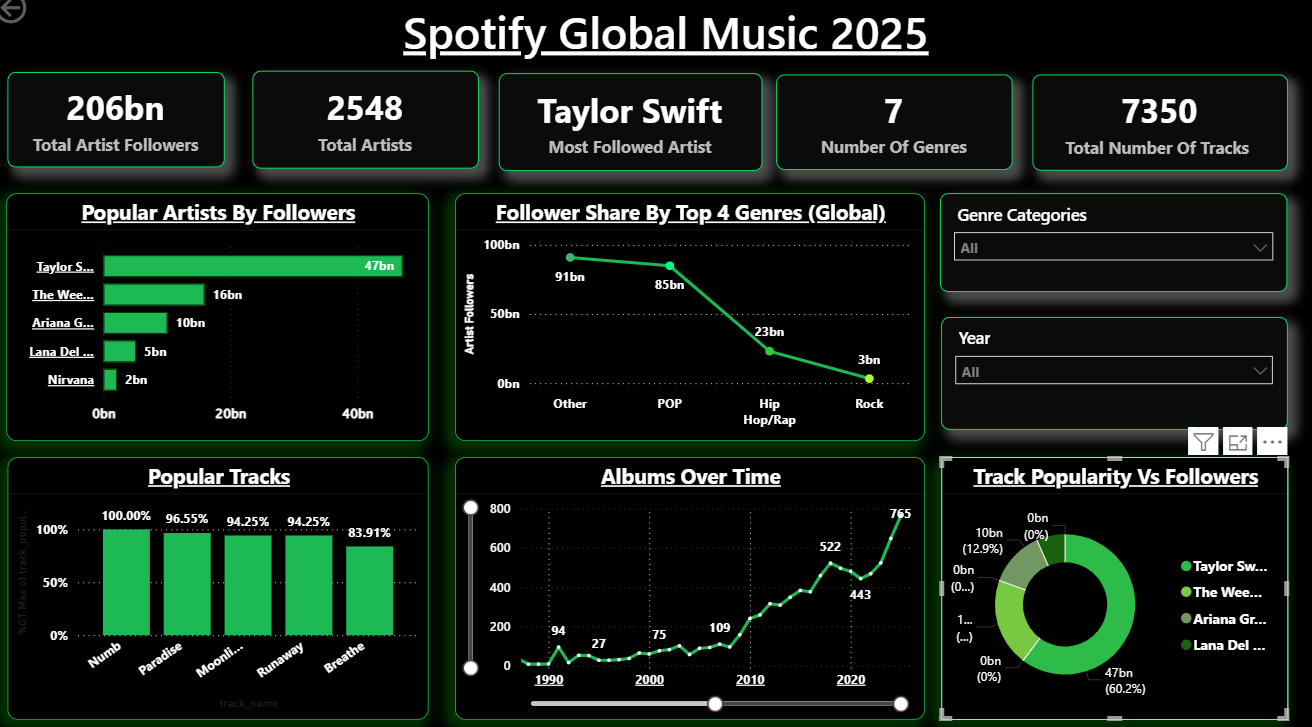

What the dashboard file says about the page in this screenshot:
{"tool":"powerbi","page":{"name":"Page 1","canvas":[1280,720],"ordinal":0},"visuals":[{"type":"textbox","box":[370.9,8.9,564,72.4],"z":0},{"type":"clusteredBarChart","title":"Popular Artists By Followers","fields":{"Category":["spotify_data clean.artist_name"],"Y":["Sum(spotify_data clean.artist_followers)"]},"box":[15.7,199.1,407.8,238.9],"z":1000},{"type":"card","fields":{"Values":["Min(Artist Genres clean.artist_name)"]},"box":[491,83.2,254.6,94.1],"z":2000},{"type":"card","fields":{"Values":["Sum(Artist Genres clean.artist_followers)"]},"box":[16.9,82,209.9,91.7],"z":3000},{"type":"card","fields":{"Values":["Count(Artist Genres clean.Genre Categories)"]},"box":[758.9,84.5,228,91.7],"z":4000},{"type":"card","fields":{"Values":["Count(Artist Genres clean.artist_name)"]},"box":[253.4,80.8,218.4,94.1],"z":5000},{"type":"lineClusteredColumnComboChart","title":"Popular Tracks","fields":{"Category":["Artist Genres clean.track_name"],"Y":["Divide(Max(Artist Genres clean.track_popularity), ScopedEval(Max(Artist Genres clean.track_popularity), []))"]},"box":[16.9,453.6,406.6,253.4],"z":6000},{"type":"lineChart","title":"Follower Share By Top 4 Genres (Global)","fields":{"Category":["Artist Genres clean.Genre Categories"],"Y":["Sum(Artist Genres clean.artist_followers)"]},"box":[448.8,199.1,453.6,238.9],"z":7000},{"type":"actionButton","box":[0,0,100,40],"z":8000},{"type":"card","fields":{"Values":["Count(Artist Genres clean.track_name)"]},"box":[1006.2,84.5,246.1,92.9],"z":9000},{"type":"slicer","fields":{"Values":["Artist Genres clean.Genre Categories"]},"box":[916.9,199.1,335.4,95.3],"z":10000},{"type":"lineChart","title":"Albums Over Time","fields":{"Category":["Artist Genres clean.album_release_date.Variation.Date Hierarchy.Year"],"Y":["CountNonNull(Artist Genres clean.album_name)"]},"box":[448.8,453.6,453.6,253.4],"z":11000},{"type":"donutChart","title":"Track Popularity Vs Followers","fields":{"Y":["Sum(Artist Genres clean.artist_followers)","Sum(Artist Genres clean.track_popularity)"],"Category":["Artist Genres clean.artist_name"]},"box":[918.1,453.6,335.4,253.4],"z":12000},{"type":"slicer","title":"Year","fields":{"Values":["Artist Genres clean.album_release_date.Variation.Date Hierarchy.Year"]},"box":[918.1,318.5,334.2,108.6],"z":13000}]}

Visuals, with their boxes in screenshot pixels (x1, y1, x2, y2), scaled from the page's 1280x720 canvas onto the 1312x727 screenshot:
textbox: detection(380, 9, 958, 82)
"Popular Artists By Followers" clusteredBarChart: detection(16, 201, 434, 442)
card - Min(Artist Genres clean.artist_name): detection(503, 84, 764, 179)
card - Sum(Artist Genres clean.artist_followers): detection(17, 83, 232, 175)
card - Count(Artist Genres clean.Genre Categories): detection(778, 85, 1012, 178)
card - Count(Artist Genres clean.artist_name): detection(260, 82, 484, 177)
"Popular Tracks" lineClusteredColumnComboChart: detection(17, 458, 434, 714)
"Follower Share By Top 4 Genres (Global)" lineChart: detection(460, 201, 925, 442)
actionButton: detection(0, 0, 102, 40)
card - Count(Artist Genres clean.track_name): detection(1031, 85, 1284, 179)
slicer - Artist Genres clean.Genre Categories: detection(940, 201, 1284, 297)
"Albums Over Time" lineChart: detection(460, 458, 925, 714)
"Track Popularity Vs Followers" donutChart: detection(941, 458, 1285, 714)
"Year" slicer: detection(941, 322, 1284, 431)
